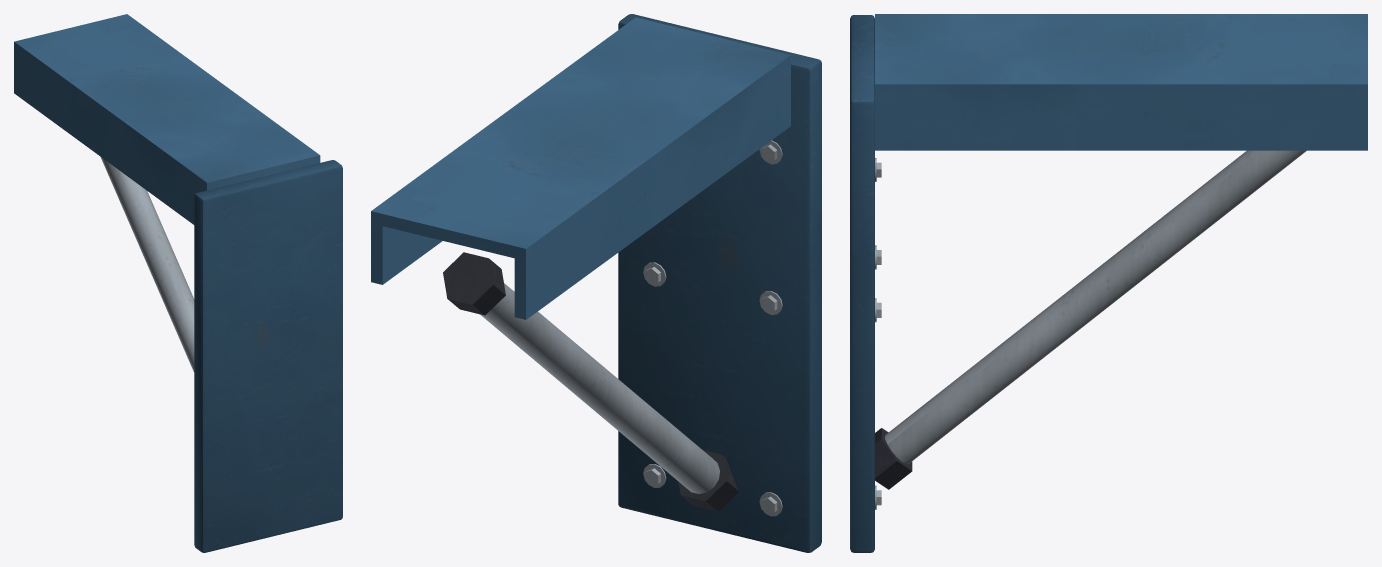
Rendered from support_bracket.glb.
The picture shows the model from 3 angles, left to right: view 1: azimuth 30°, elevation 25°; view 2: azimuth 150°, elevation 25°; view 3: azimuth 270°, elevation 25°; orthographic projection. The views are drawn at different scales.
Visible parts, largest first — view 1: Body.008; view 2: Body.008; view 3: Body.008.
Boxes of the visible parts, left/top/right/bottom form: Body.008: left=14, top=14, right=342, bottom=552; Body.008: left=371, top=14, right=821, bottom=552; Body.008: left=850, top=14, right=1367, bottom=552.
Size of the model in its own units: 0.2 by 0.4885 by 0.497.
Materials: 4 (4 with a texture image).
